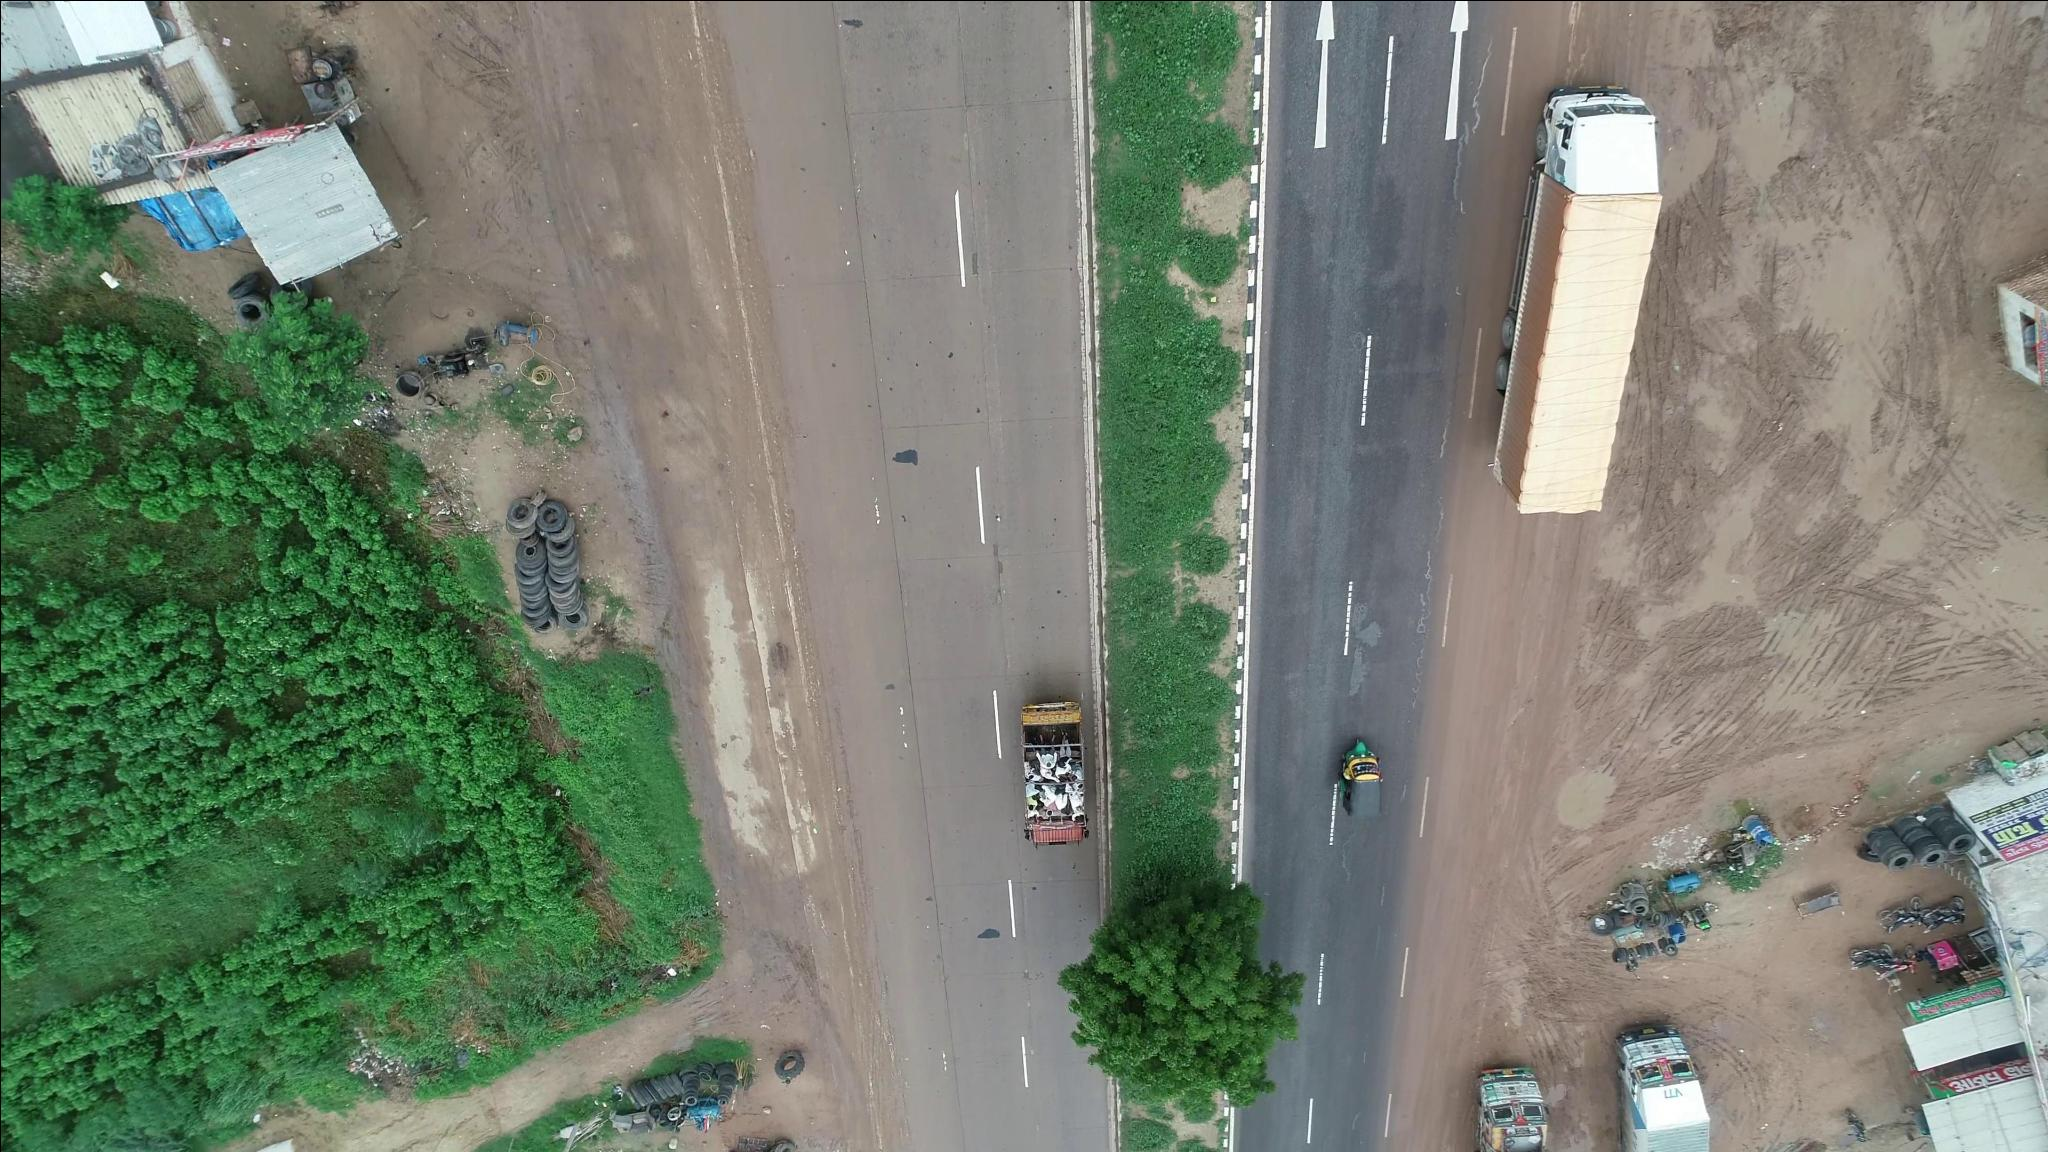Muddy_road: (1405, 525, 1573, 1075)
